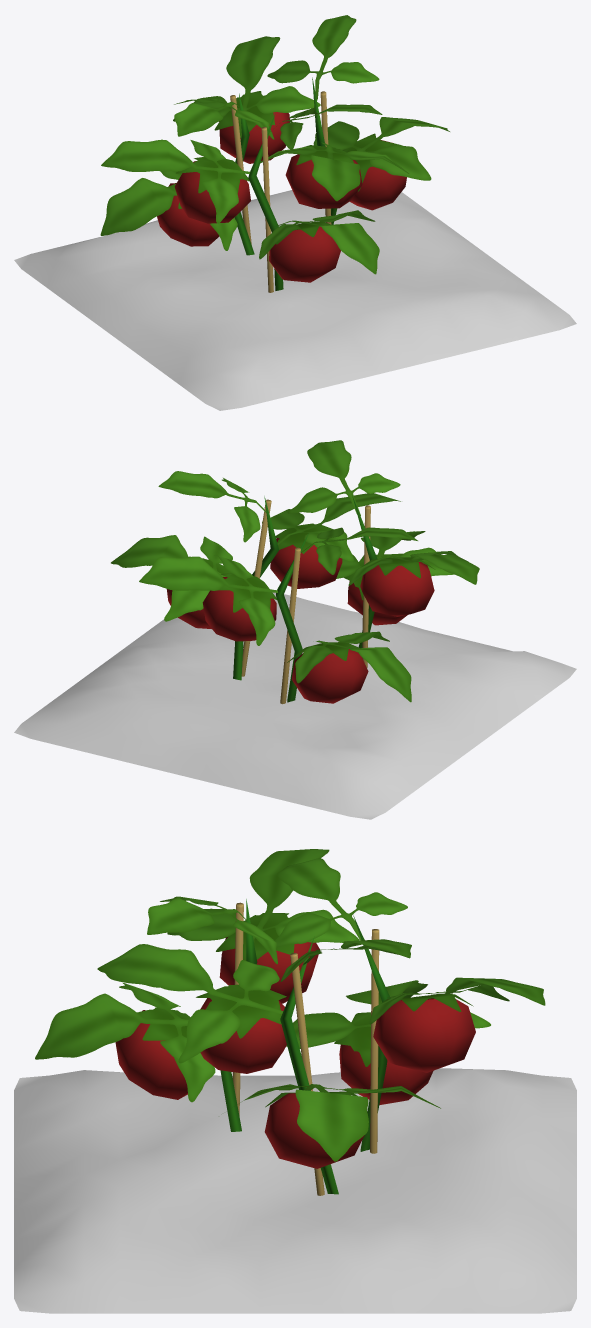
The model's file is Tomato.fbx.
3 renders of one model, top to bottom at view 1: azimuth 30°, elevation 25°; view 2: azimuth 150°, elevation 25°; view 3: azimuth 270°, elevation 25°, orthographic. The views are drawn at different scales.
Visible parts, largest first — view 1: Bed_low_Bed_0, Tomato_Plants_0; view 2: Bed_low_Bed_0, Tomato_Plants_0; view 3: Bed_low_Bed_0, Tomato_Plants_0.
Boxes of the visible parts, left/top/right/bottom form: Bed_low_Bed_0: left=14, top=190, right=576, bottom=410; Tomato_Plants_0: left=100, top=15, right=449, bottom=292; Bed_low_Bed_0: left=14, top=592, right=576, bottom=819; Tomato_Plants_0: left=111, top=440, right=479, bottom=704; Bed_low_Bed_0: left=14, top=1068, right=576, bottom=1313; Tomato_Plants_0: left=35, top=849, right=545, bottom=1195.
Size of the model in its own units: 103 by 63.61 by 100.
